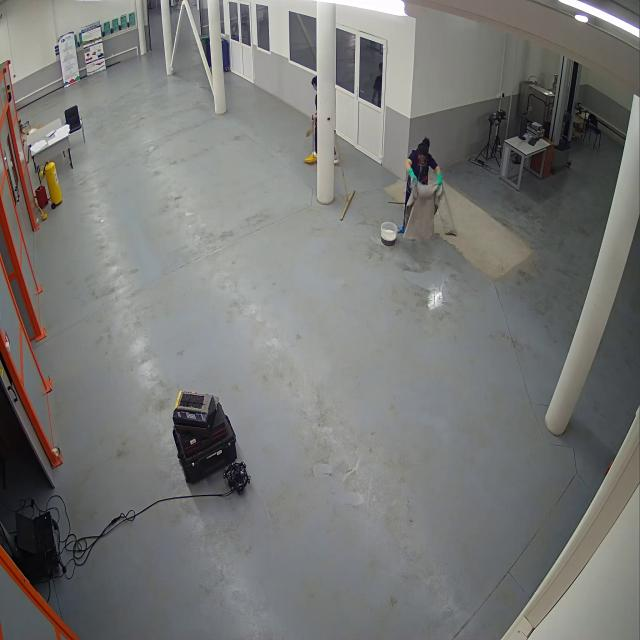NO-Hardhat: (415, 142, 428, 157), (312, 74, 318, 86)
Person: (402, 134, 444, 236), (307, 71, 317, 161)
